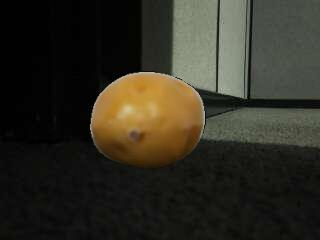Potato: (91, 72, 207, 168)
